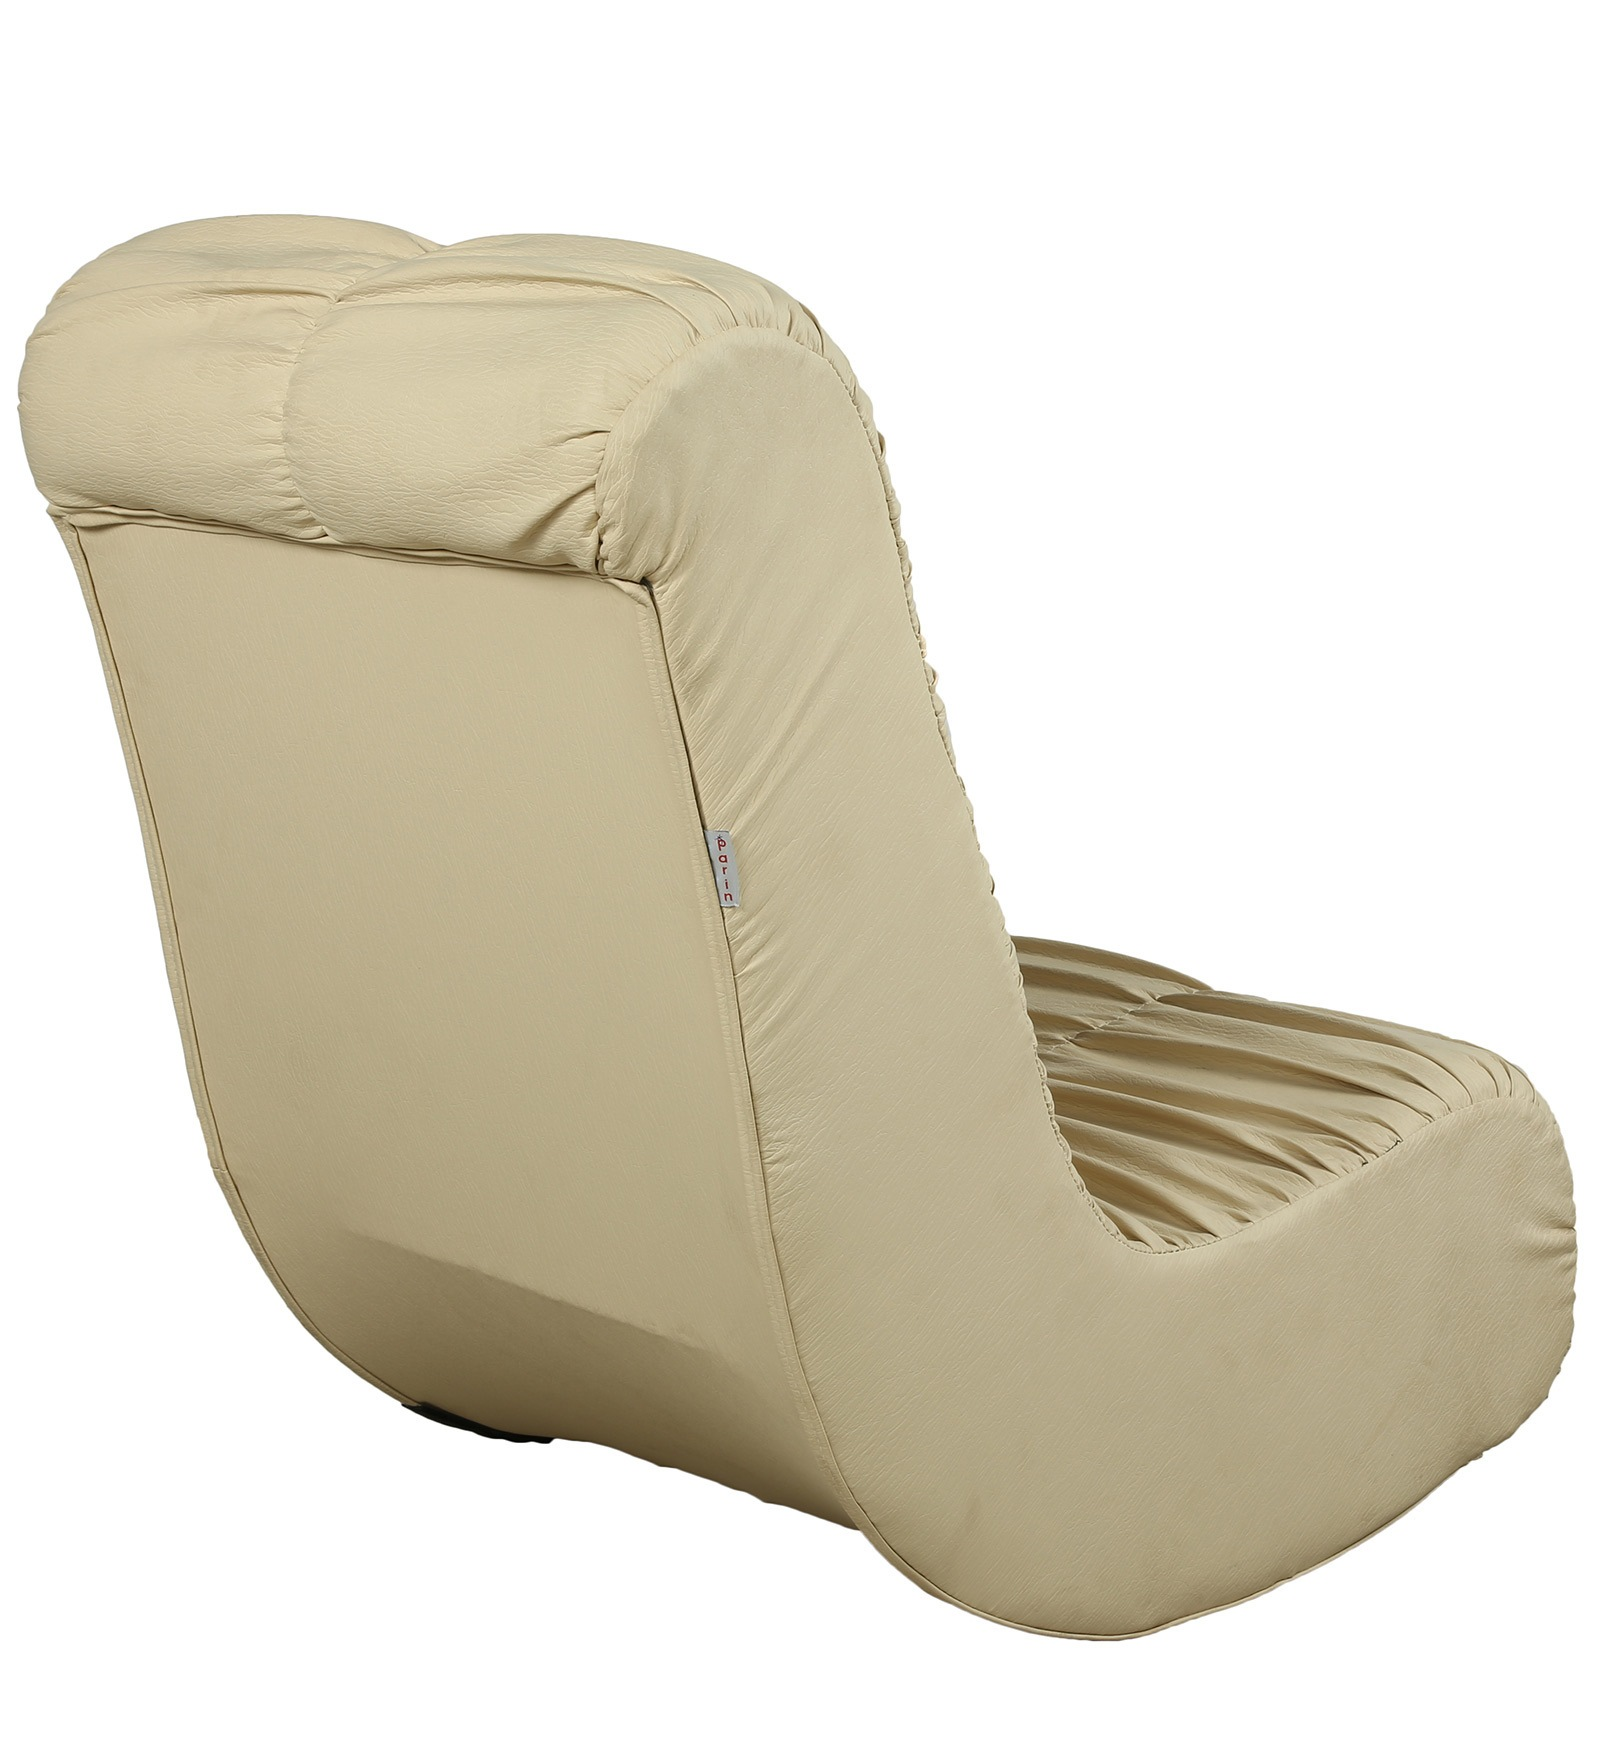Daisy Rocking Chair in Ivory Colour by Parin: (35, 161, 1572, 1657)
